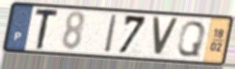7: (116, 14, 149, 56)
8: (60, 10, 87, 53)
I: (103, 13, 119, 55)
Q: (175, 20, 208, 58)
T: (33, 8, 61, 51)
V: (151, 15, 181, 58)
